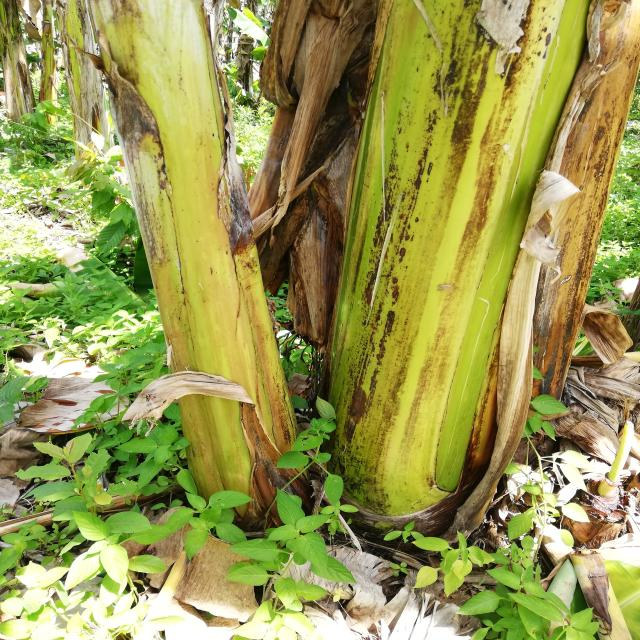Banana-plant: (320, 6, 594, 534), (77, 7, 313, 537)
